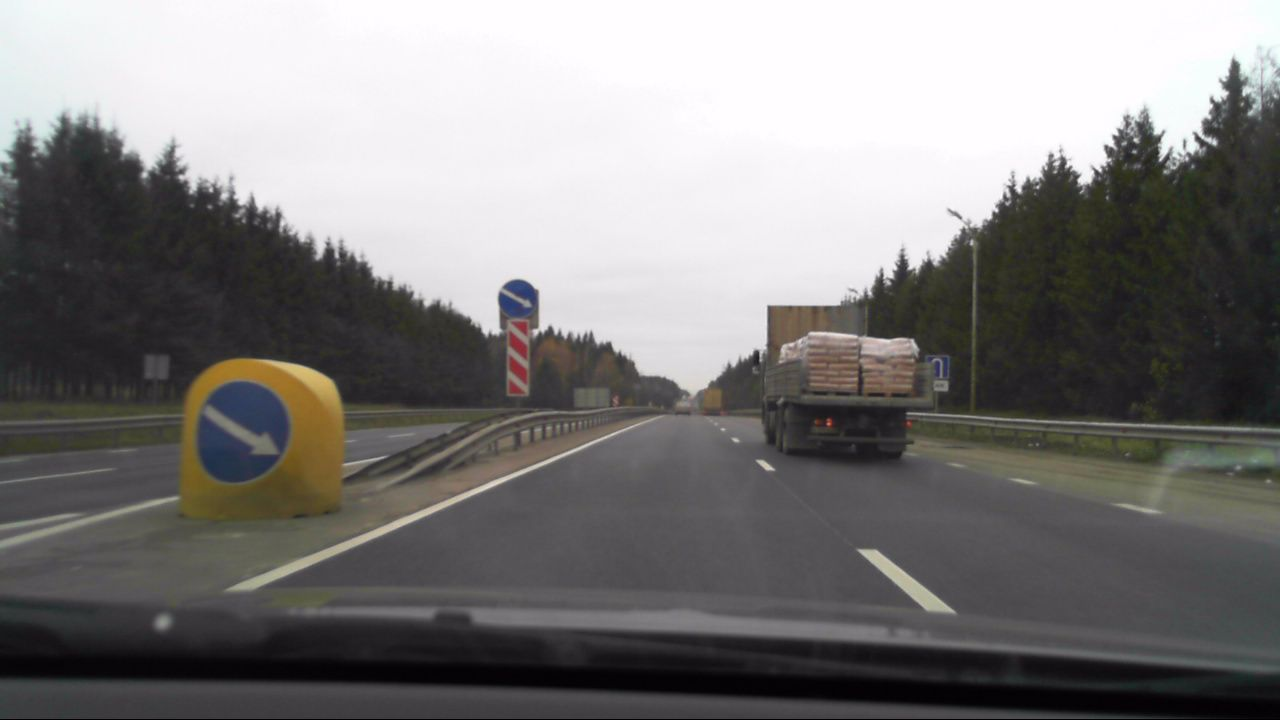U-turn: (928, 357, 949, 378)
